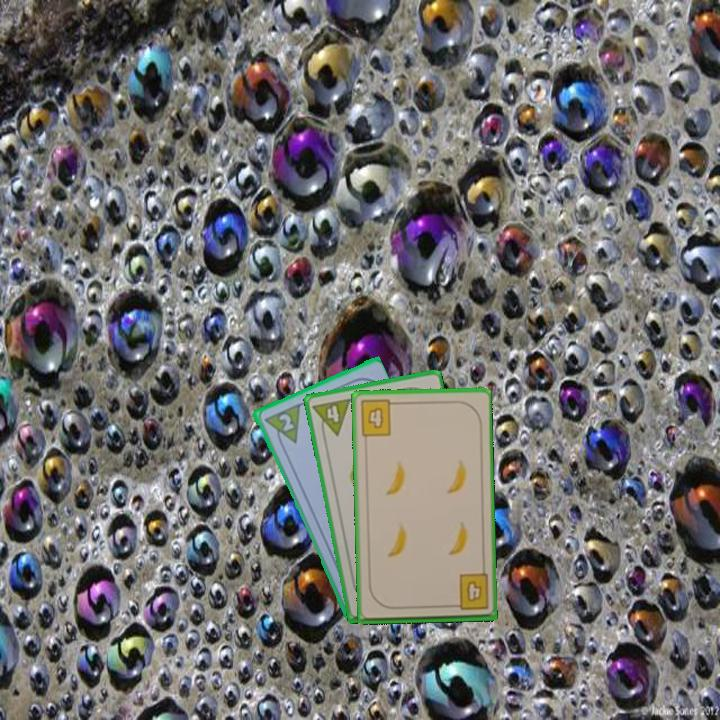2p: (260, 400, 303, 451)
4b: (356, 396, 400, 439), (447, 571, 491, 613)
4p: (309, 395, 353, 441)
